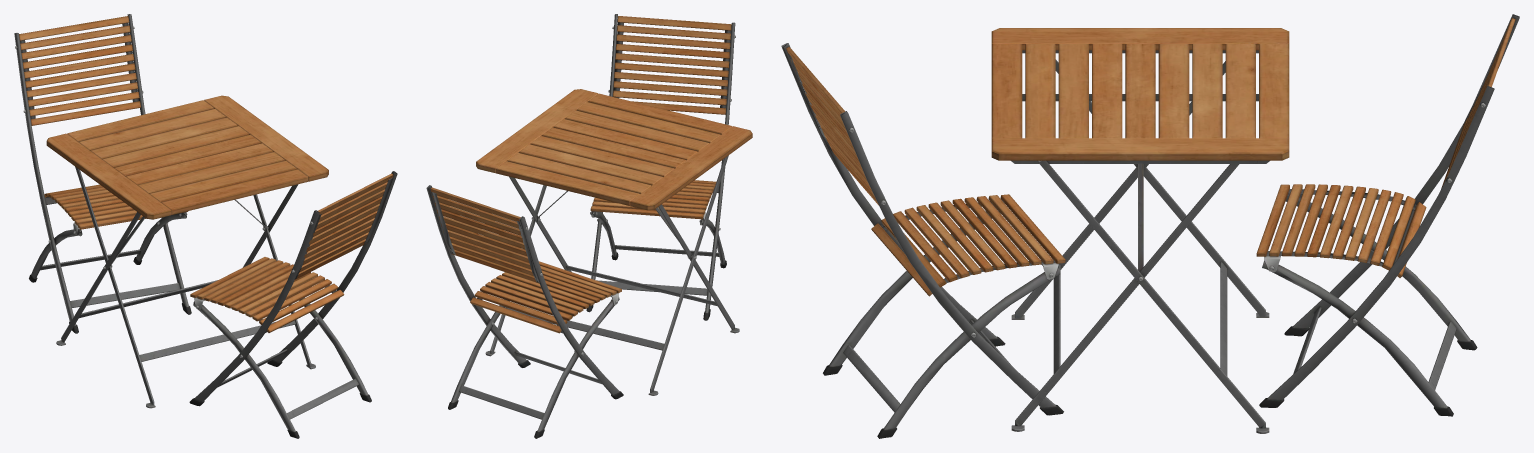
Rendered from outdoor_table_chair_set_01.glb.
The picture shows the model from 3 angles, left to right: view 1: azimuth 30°, elevation 25°; view 2: azimuth 150°, elevation 25°; view 3: azimuth 270°, elevation 25°; orthographic projection. The views are drawn at different scales.
Visible parts, largest first — view 1: outdoor_table_chair_set_01_chair_01, outdoor_table_chair_set_01_table; view 2: outdoor_table_chair_set_01_chair_01, outdoor_table_chair_set_01_table; view 3: outdoor_table_chair_set_01_table, outdoor_table_chair_set_01_chair_01.
Boxes of the visible parts, bbox=[...] form: outdoor_table_chair_set_01_chair_01: bbox=[14, 14, 397, 438]; outdoor_table_chair_set_01_table: bbox=[46, 95, 328, 408]; outdoor_table_chair_set_01_chair_01: bbox=[426, 14, 735, 438]; outdoor_table_chair_set_01_table: bbox=[476, 89, 752, 395]; outdoor_table_chair_set_01_table: bbox=[991, 28, 1289, 433]; outdoor_table_chair_set_01_chair_01: bbox=[781, 14, 1519, 438].
Size of the model in its own units: 0.7417 by 0.8579 by 1.72.
Materials: 2 (2 with a texture image).
